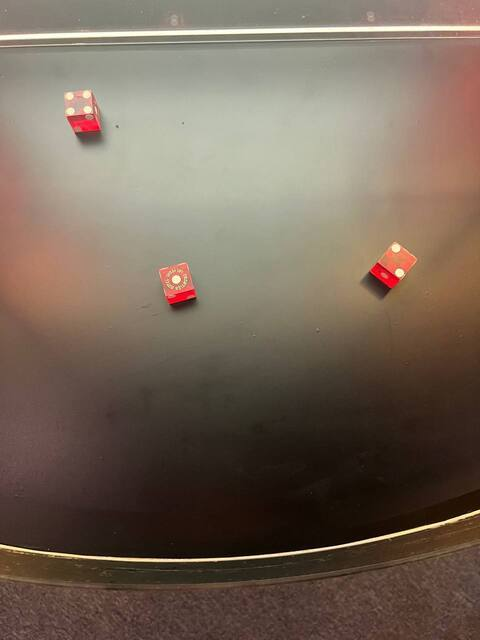four: (61, 87, 96, 119)
one: (157, 263, 196, 298)
two: (384, 240, 418, 283)
